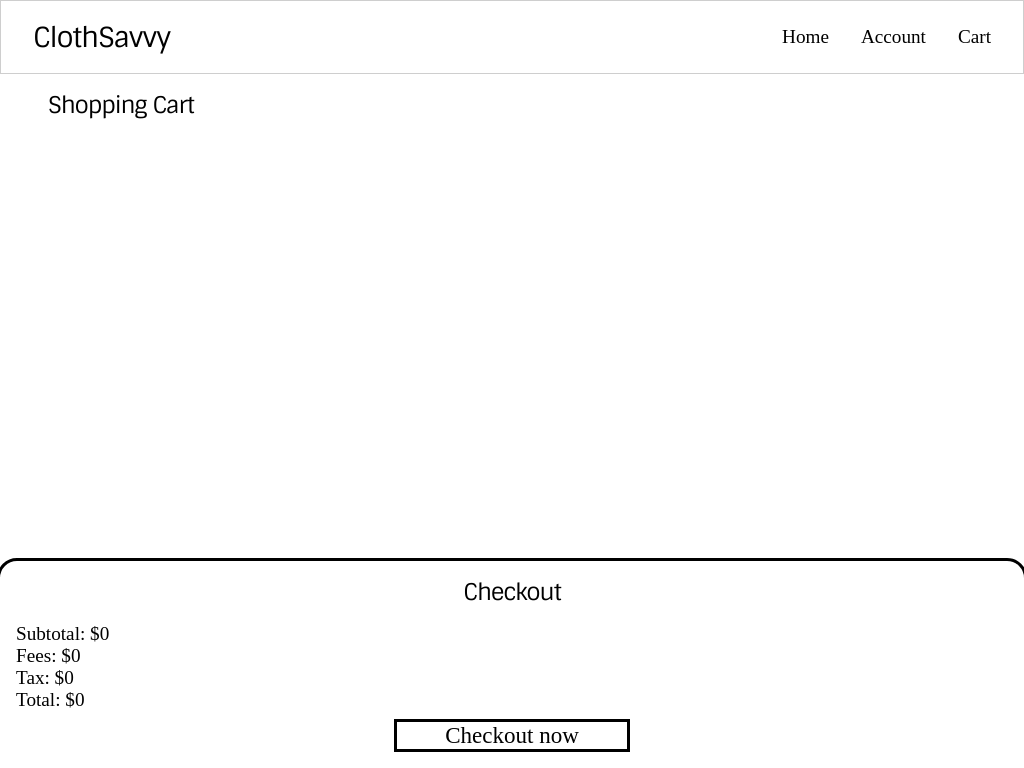
Test: App › routing › should render error page for invalid routes
Step 1. Click the link "Account" → (893,37), box [861, 26, 926, 48]
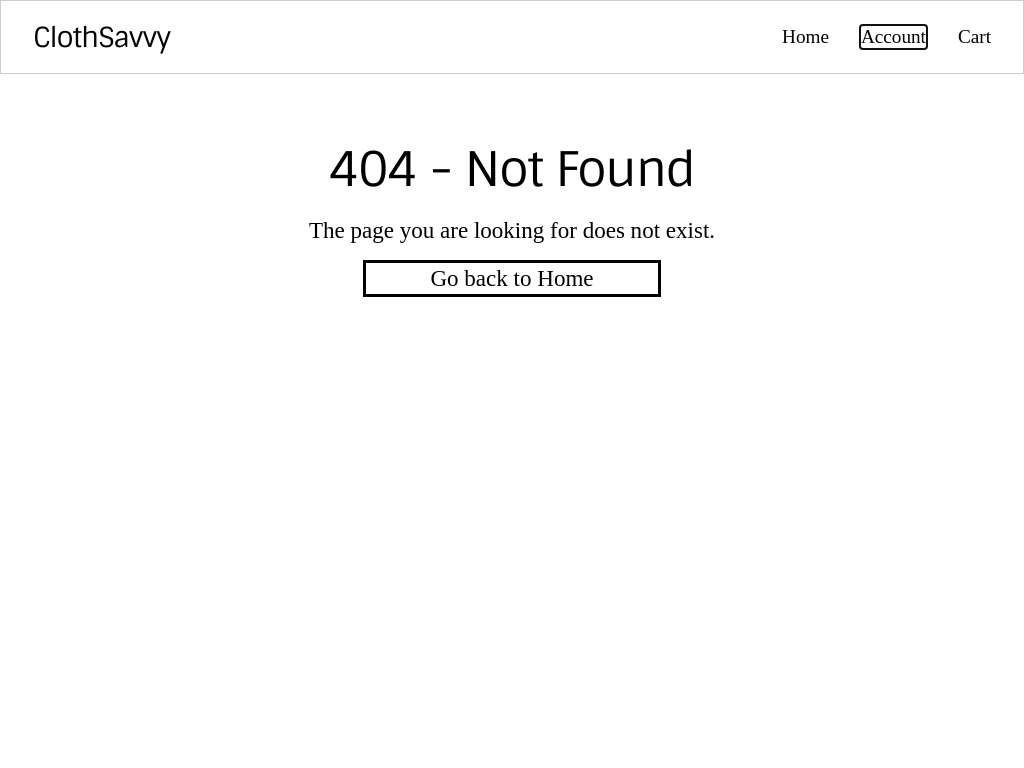
Result: the heading "404 - Not Found" is shown at [329, 138, 695, 201]
